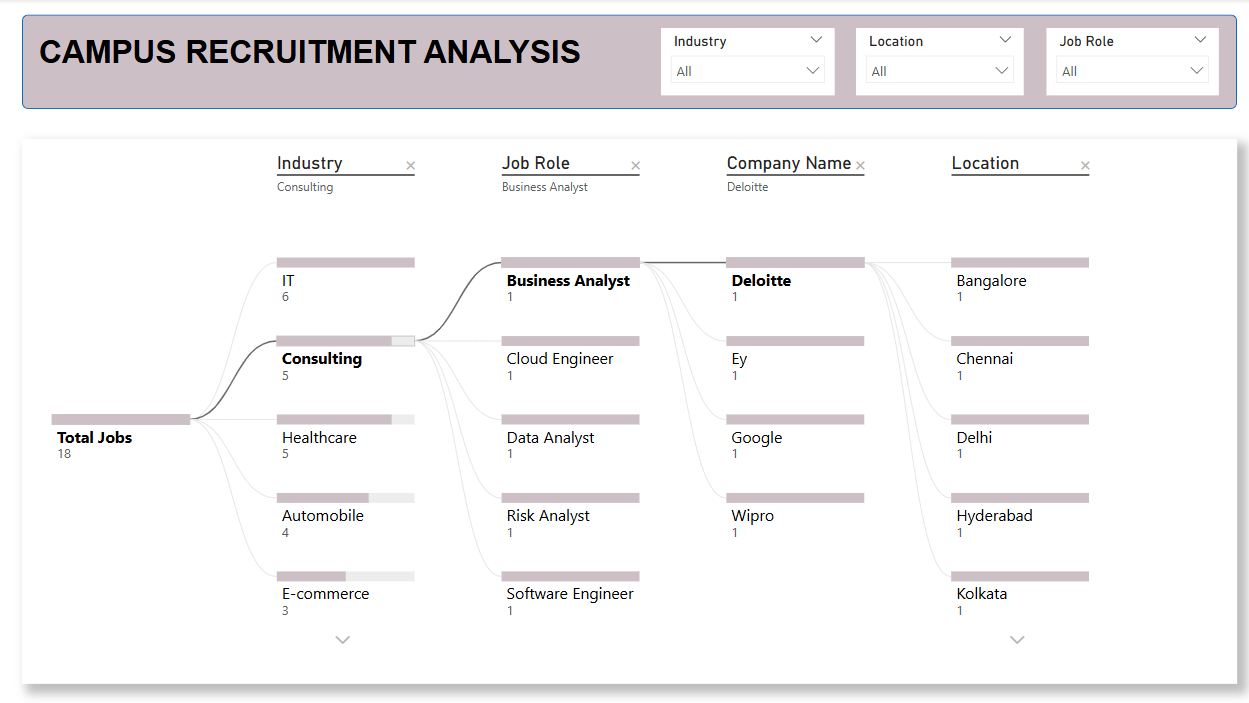

Layout of this report page (visuals, bound fields, positions):
{"tool":"powerbi","page":{"name":"Decomposition Tree","canvas":[1280,720],"ordinal":3},"visuals":[{"type":"shape","box":[33.3,16.7,1226.5,95.4],"z":0},{"type":"textbox","box":[45.4,17,595.3,81.3],"z":1000},{"type":"slicer","fields":{"Values":["campus_recruitment.Job Role"]},"box":[1067.5,30.3,174.1,68.1],"z":2000},{"type":"slicer","fields":{"Values":["campus_recruitment.Location"]},"box":[875.2,30.3,169.6,68.1],"z":3000},{"type":"slicer","fields":{"Values":["campus_recruitment.Industry"]},"box":[678.4,30.3,175.6,68.1],"z":4000},{"type":"decompositionTreeVisual","fields":{"ExplainBy":["campus_recruitment.Industry","campus_recruitment.Job Role","campus_recruitment.Company Name","campus_recruitment.Location"],"Analyze":["Measure Table.Total Jobs"]},"box":[34,141.7,1226.5,549.9],"z":8000}]}

Visuals, with their boxes in screenshot pixels (x1, y1, x2, y2), scaled from the page's 1280x720 canvas onto the 1249x703 screenshot:
shape: [32,16,1229,109]
textbox: [44,17,625,96]
slicer - campus_recruitment.Job Role: [1042,30,1212,96]
slicer - campus_recruitment.Location: [854,30,1019,96]
slicer - campus_recruitment.Industry: [662,30,833,96]
decompositionTreeVisual - campus_recruitment.Industry x campus_recruitment.Job Role: [33,138,1230,675]
